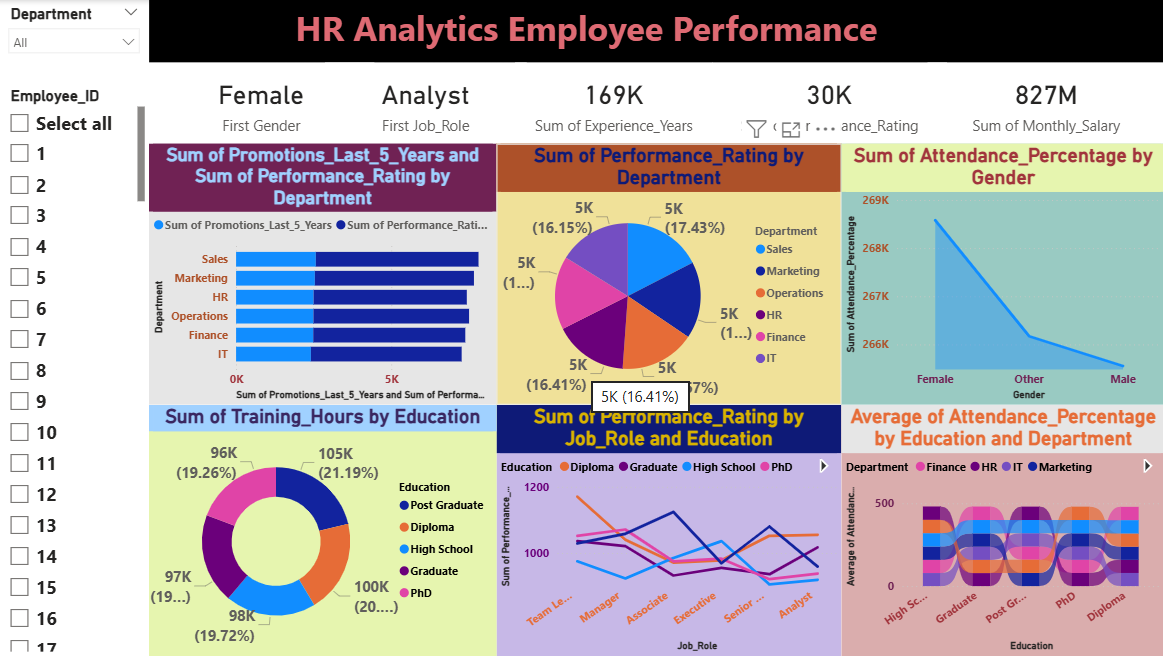

This screenshot's page, from the dashboard's own definition file:
{"tool":"powerbi","page":{"name":"Dashboard_HR_Analysis","canvas":[1280,720],"ordinal":9},"visuals":[{"type":"textbox","box":[9.6,0,1270.7,68.6],"z":0},{"type":"slicer","fields":{"Values":["HR_Analytics_Employee_Performance_10000.Employee_ID"]},"box":[0,90.6,164.7,629.8],"z":1},{"type":"slicer","fields":{"Values":["HR_Analytics_Employee_Performance_10000.Department"]},"box":[0,0,164.7,90.6],"z":2},{"type":"card","fields":{"Values":["Sum(HR_Analytics_Employee_Performance_10000.Experience_Years)"]},"box":[566.7,68.6,216.8,89.2],"z":3},{"type":"card","fields":{"Values":["Min(HR_Analytics_Employee_Performance_10000.Gender)"]},"box":[164.7,68.6,247,89.2],"z":4},{"type":"card","fields":{"Values":["Sum(HR_Analytics_Employee_Performance_10000.Monthly_Salary)"]},"box":[1019.6,68.6,260.7,89.2],"z":5},{"type":"card","fields":{"Values":["Sum(HR_Analytics_Employee_Performance_10000.Performance_Rating)"]},"box":[783.5,68.6,256.6,89.2],"z":6},{"type":"card","fields":{"Values":["Min(HR_Analytics_Employee_Performance_10000.Job_Role)"]},"box":[358.1,68.6,220.9,89.2],"z":7},{"type":"barChart","fields":{"Category":["HR_Analytics_Employee_Performance_10000.Department"],"Y":["Sum(HR_Analytics_Employee_Performance_10000.Promotions_Last_5_Years)","Sum(HR_Analytics_Employee_Performance_10000.Performance_Rating)"]},"box":[164.7,157.8,381.5,286.8],"z":8},{"type":"lineChart","fields":{"Y":["Sum(HR_Analytics_Employee_Performance_10000.Performance_Rating)"],"Category":["HR_Analytics_Employee_Performance_10000.Job_Role"],"Series":["HR_Analytics_Employee_Performance_10000.Education"]},"box":[546.1,444.6,378.7,275.8],"z":9},{"type":"pieChart","fields":{"Category":["HR_Analytics_Employee_Performance_10000.Department"],"Y":["Sum(HR_Analytics_Employee_Performance_10000.Performance_Rating)"]},"box":[546.1,157.8,378.7,286.8],"z":10},{"type":"donutChart","fields":{"Category":["HR_Analytics_Employee_Performance_10000.Education"],"Y":["Sum(HR_Analytics_Employee_Performance_10000.Training_Hours)"]},"box":[164.7,444.6,381.5,275.8],"z":11},{"type":"areaChart","fields":{"Y":["Sum(HR_Analytics_Employee_Performance_10000.Attendance_Percentage)"],"Category":["HR_Analytics_Employee_Performance_10000.Gender"]},"box":[924.9,157.8,355.4,286.8],"z":12},{"type":"ribbonChart","fields":{"Category":["HR_Analytics_Employee_Performance_10000.Education"],"Series":["HR_Analytics_Employee_Performance_10000.Department"],"Y":["Avg(HR_Analytics_Employee_Performance_10000.Attendance_Percentage)"]},"box":[924.9,444.6,355.4,275.8],"z":13}]}

Visuals, with their boxes on the page's 1280x720 design canvas (x1, y1, x2, y2). These are canvas units, not pixel positions in the 1163x656 screenshot, which may show the page scaled, cropped or inside an application window:
textbox: (x1=10, y1=0, x2=1280, y2=69)
slicer - HR_Analytics_Employee_Performance_10000.Employee_ID: (x1=0, y1=91, x2=165, y2=720)
slicer - HR_Analytics_Employee_Performance_10000.Department: (x1=0, y1=0, x2=165, y2=91)
card - Sum(HR_Analytics_Employee_Performance_10000.Experience_Years): (x1=567, y1=69, x2=784, y2=158)
card - Min(HR_Analytics_Employee_Performance_10000.Gender): (x1=165, y1=69, x2=412, y2=158)
card - Sum(HR_Analytics_Employee_Performance_10000.Monthly_Salary): (x1=1020, y1=69, x2=1280, y2=158)
card - Sum(HR_Analytics_Employee_Performance_10000.Performance_Rating): (x1=784, y1=69, x2=1040, y2=158)
card - Min(HR_Analytics_Employee_Performance_10000.Job_Role): (x1=358, y1=69, x2=579, y2=158)
barChart - HR_Analytics_Employee_Performance_10000.Department x Sum(HR_Analytics_Employee_Performance_10000.Promotions_Last_5_Years): (x1=165, y1=158, x2=546, y2=445)
lineChart - Sum(HR_Analytics_Employee_Performance_10000.Performance_Rating) x HR_Analytics_Employee_Performance_10000.Job_Role: (x1=546, y1=445, x2=925, y2=720)
pieChart - HR_Analytics_Employee_Performance_10000.Department x Sum(HR_Analytics_Employee_Performance_10000.Performance_Rating): (x1=546, y1=158, x2=925, y2=445)
donutChart - HR_Analytics_Employee_Performance_10000.Education x Sum(HR_Analytics_Employee_Performance_10000.Training_Hours): (x1=165, y1=445, x2=546, y2=720)
areaChart - Sum(HR_Analytics_Employee_Performance_10000.Attendance_Percentage) x HR_Analytics_Employee_Performance_10000.Gender: (x1=925, y1=158, x2=1280, y2=445)
ribbonChart - HR_Analytics_Employee_Performance_10000.Education x HR_Analytics_Employee_Performance_10000.Department: (x1=925, y1=445, x2=1280, y2=720)
